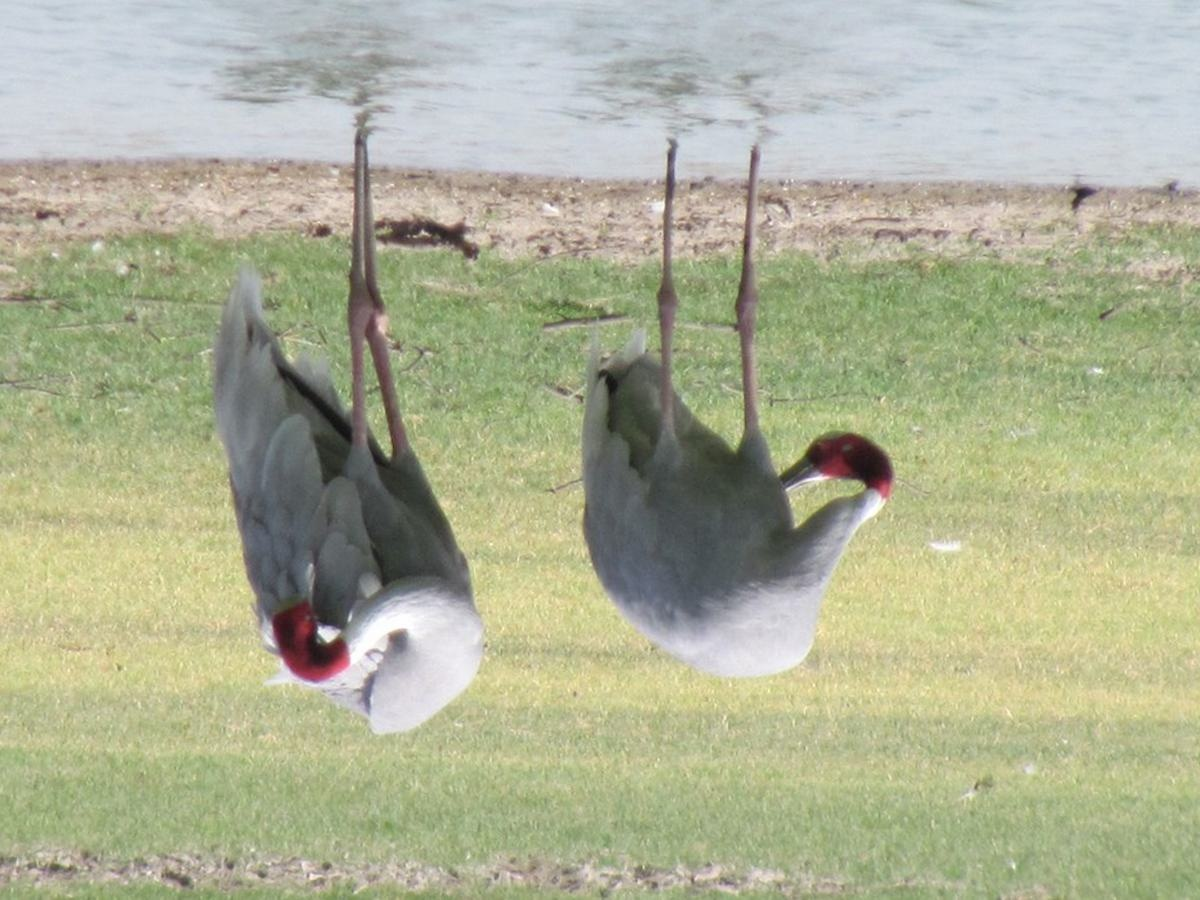crane: (579, 117, 904, 702), (211, 94, 494, 738)
